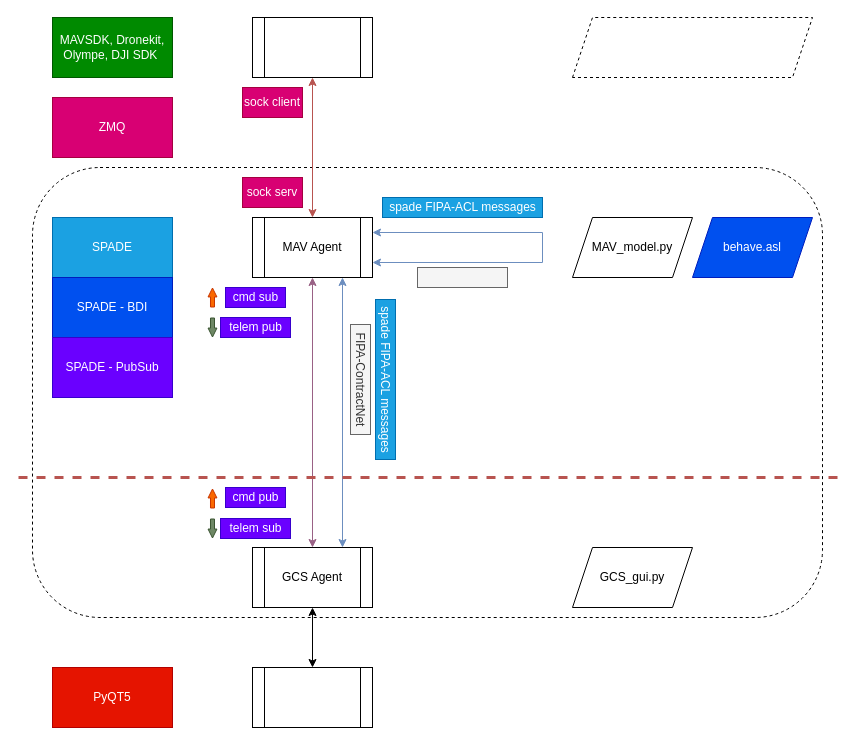
The diagram is 858 pixels wide and 745 high, and some of its shapes have lost their labels. The box of each missing label's shape, as (x1, y1, x2, y2) in pixels:
FIPA-Request: (416, 266, 508, 288)
MAV Controller: (252, 16, 372, 78)
MAV_controller_[Autopilot].py: (572, 16, 812, 78)
QtCore.QThread, QtWidget: (252, 666, 372, 728)
